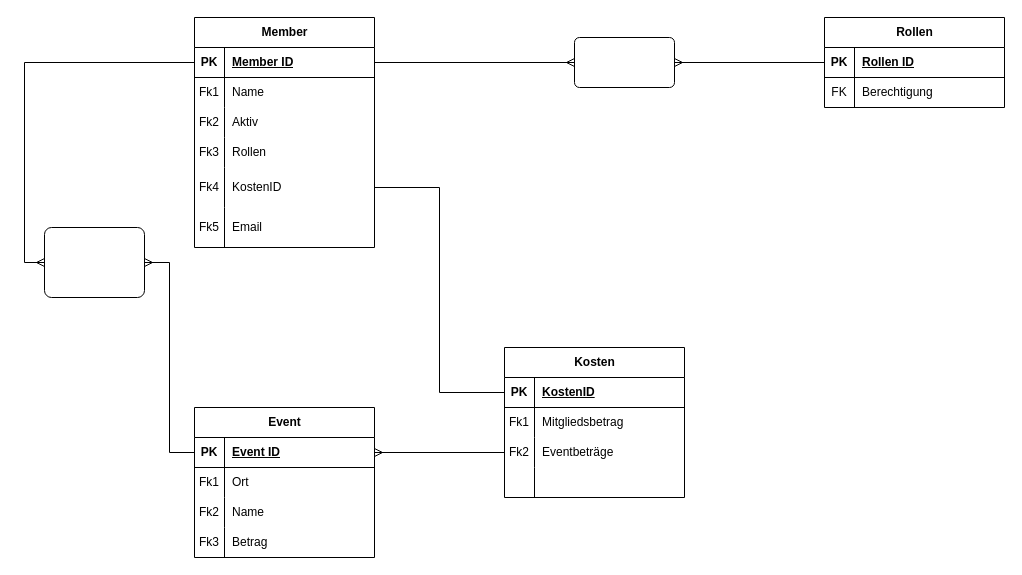
The diagram is 1022 pixels wide and 575 high, and some of its shapes have lost their labels. Here are the shapes that lost their labels. From the top down, the centre of each, then its label:
At point 624,62: "Zutritt PK Rollen ID PK Member ID".
At point 94,262: "Teilnahme PK Event ID PK Member id".
